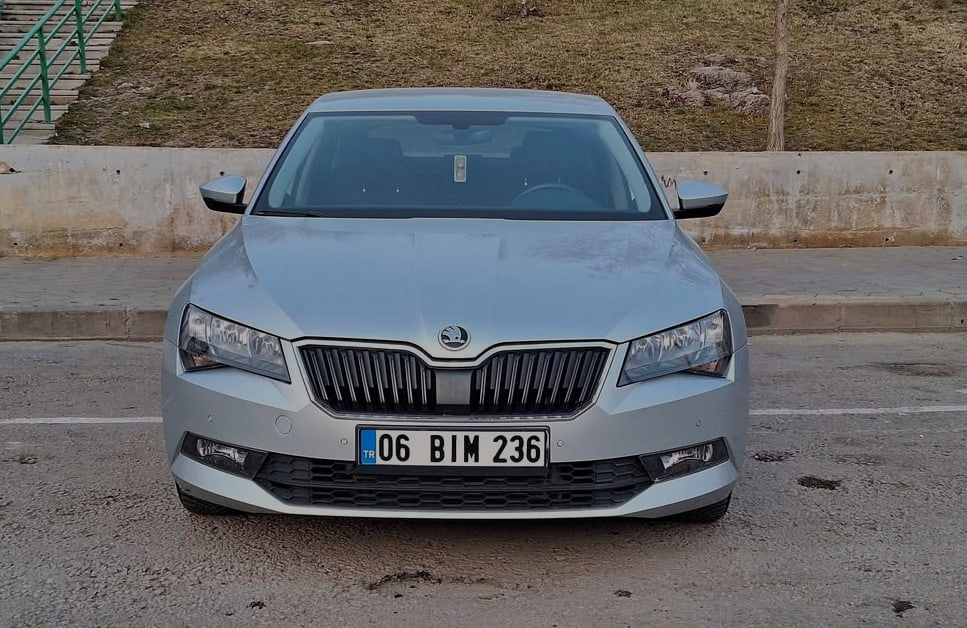plaka: (377, 423, 552, 471)
